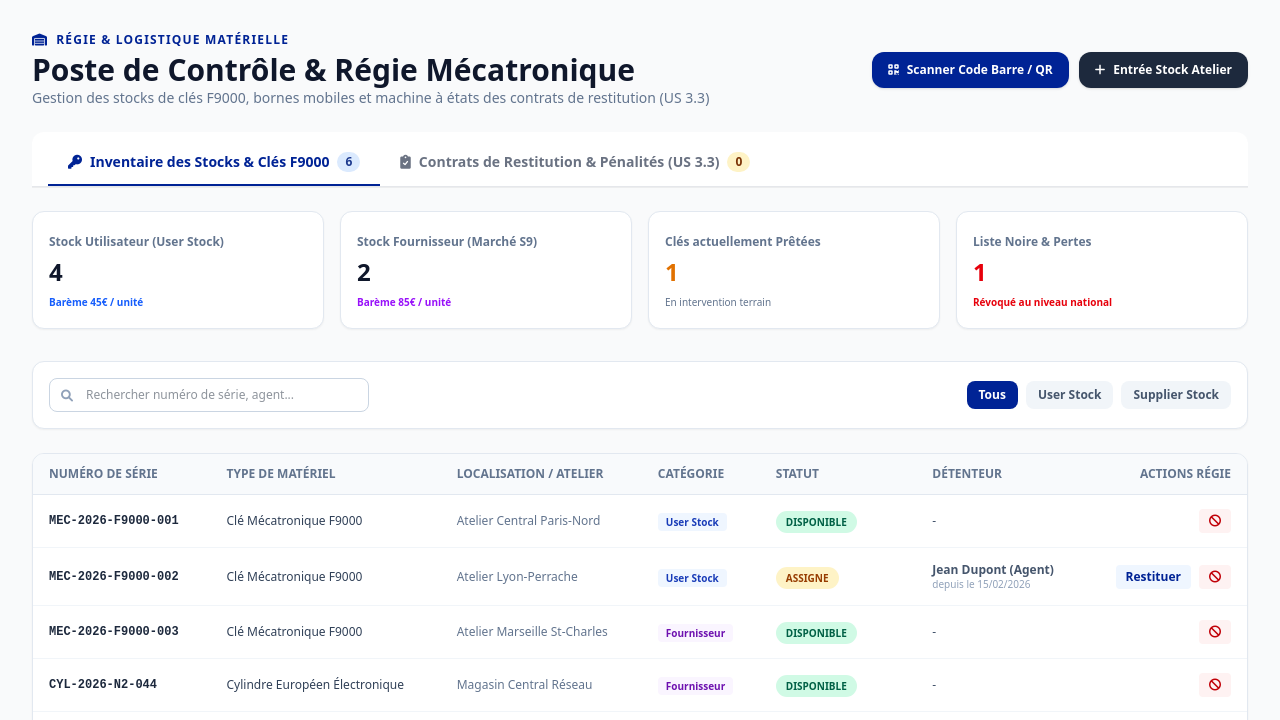
Scenario: User Story 4.2: Regie & Control Room Component › handles blacklisting / revocation of a lost key
Click the button titled "Blacklister / Déclarer Perdu" in the row of "MEC-2026-F9000-001".
click(1215, 521)  # box [1199,509,1231,533]
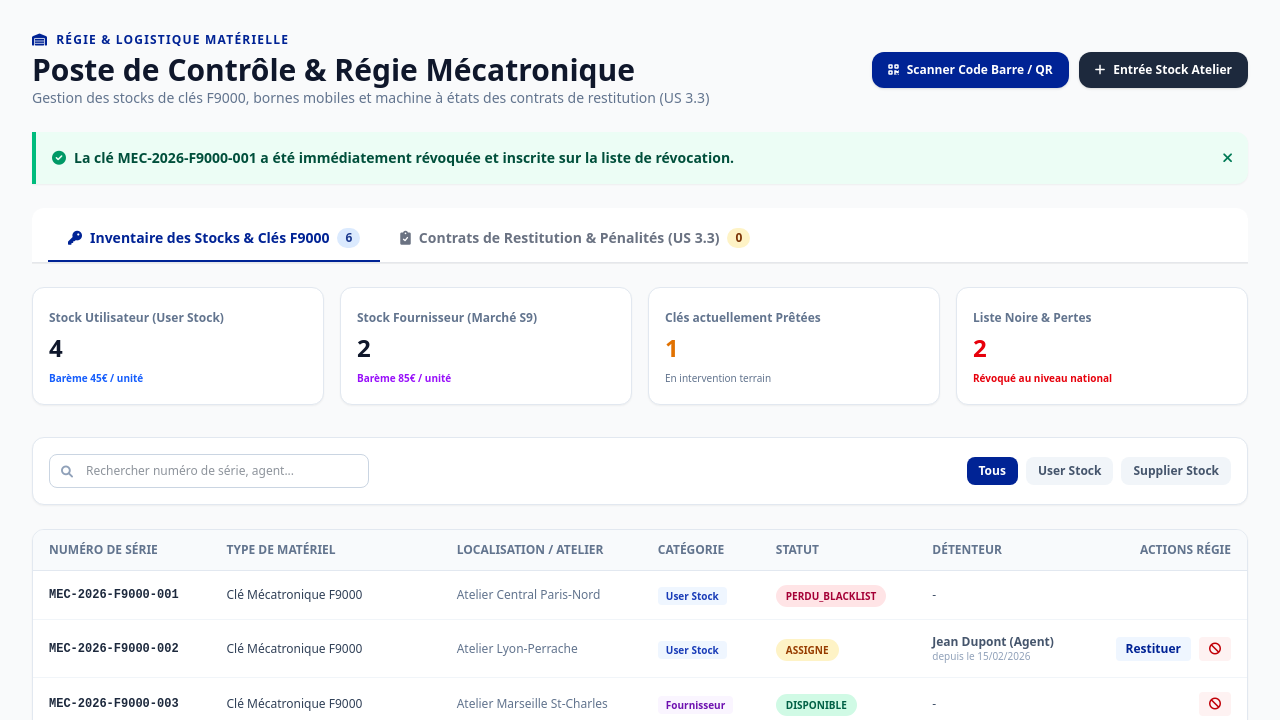
Expected: the text "a été immédiatement révoquée et inscrite sur la liste de révocation" is shown, [74,148,734,167]
